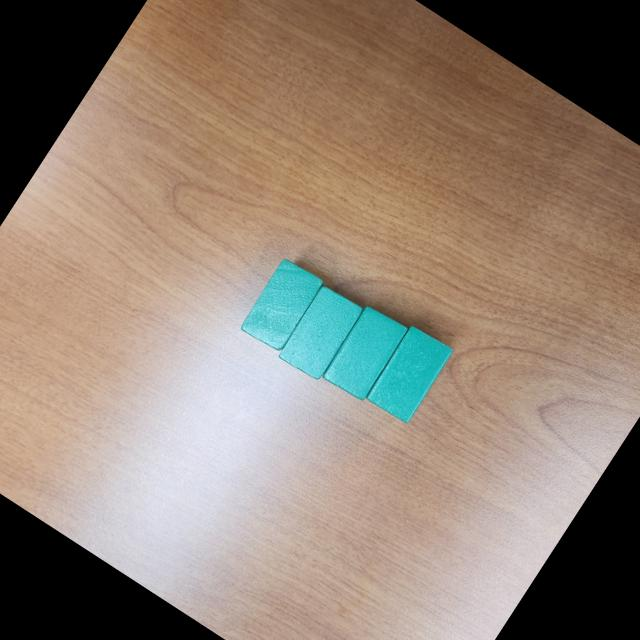green: (361, 324, 453, 426), (318, 302, 410, 404), (236, 253, 326, 354), (275, 282, 365, 382)
